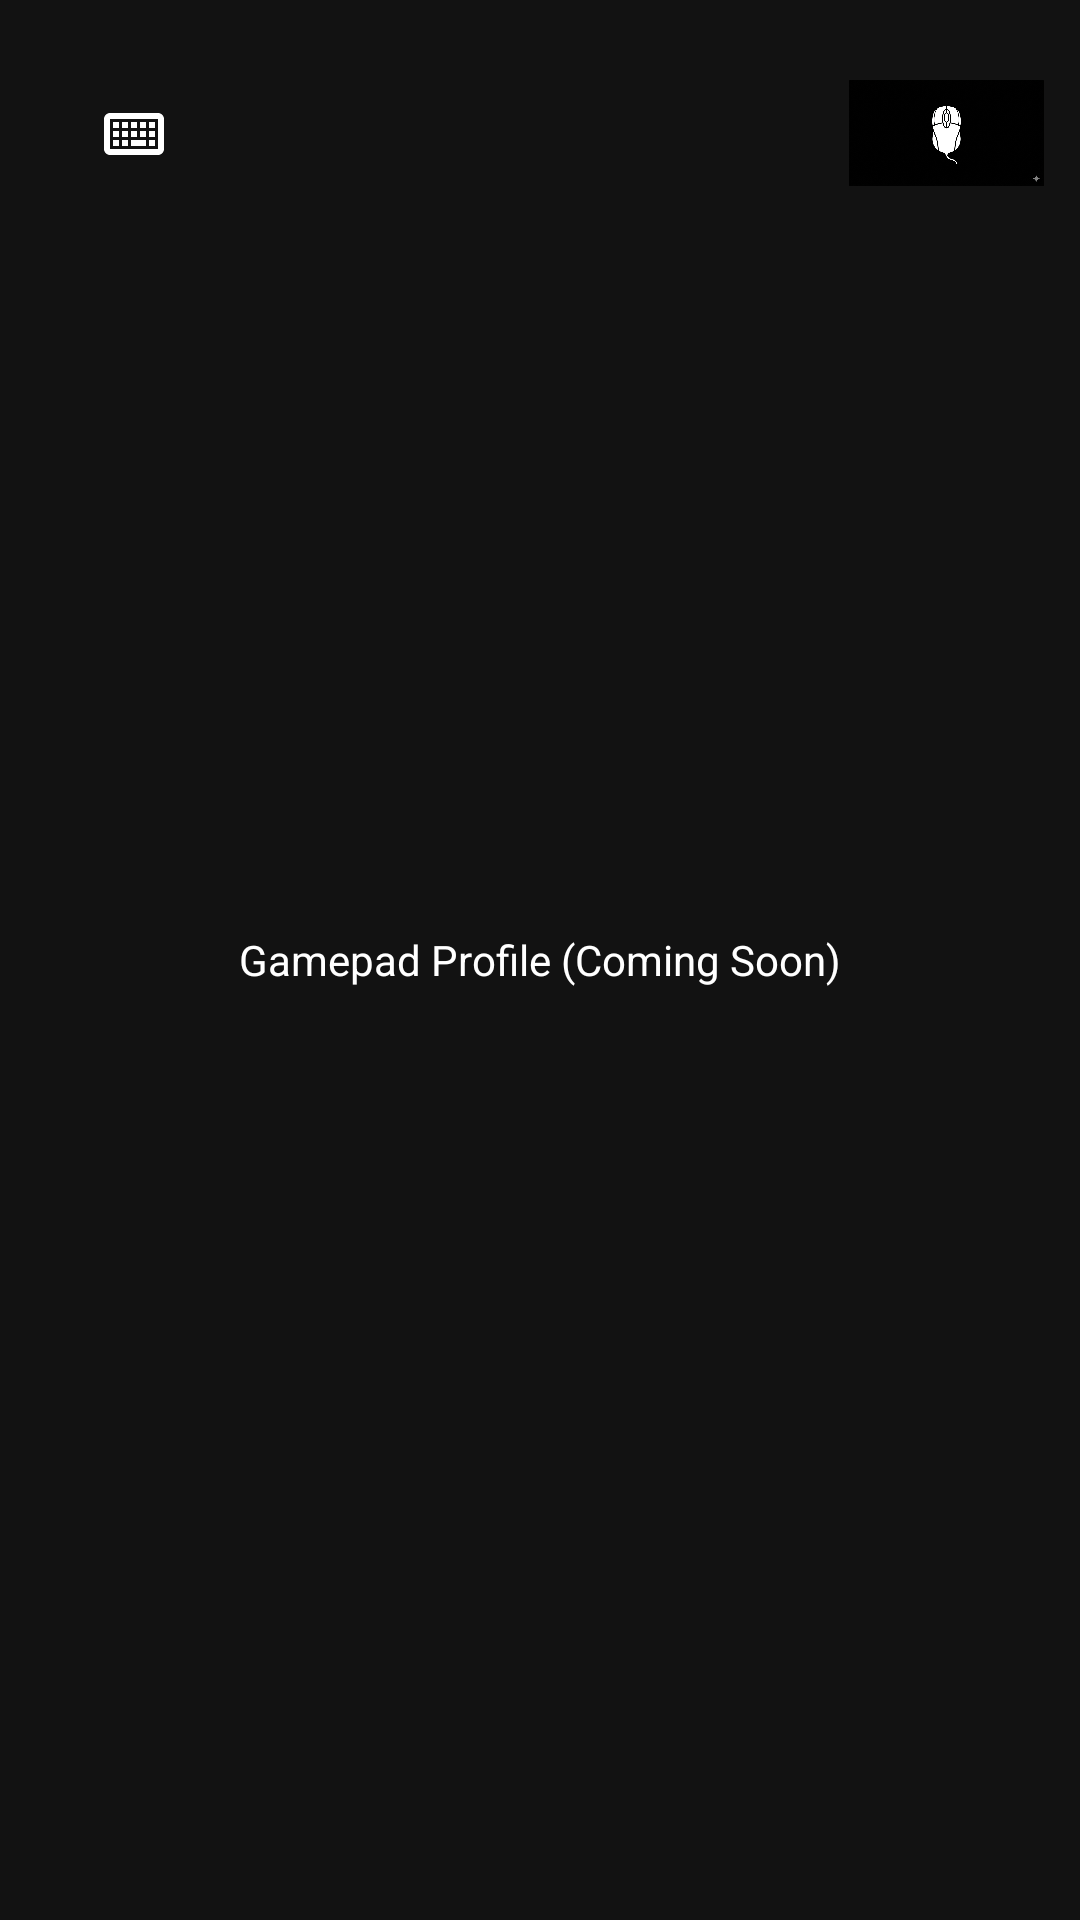

Icons on this 1080 x 1920 Android screen, each with its box as (x1, y1, x2, y2):
Switch to Keyboard: (104, 113, 164, 155)
